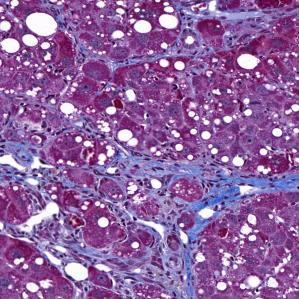fibrosis: (94, 148, 247, 210), (96, 219, 201, 295), (203, 158, 299, 203)
